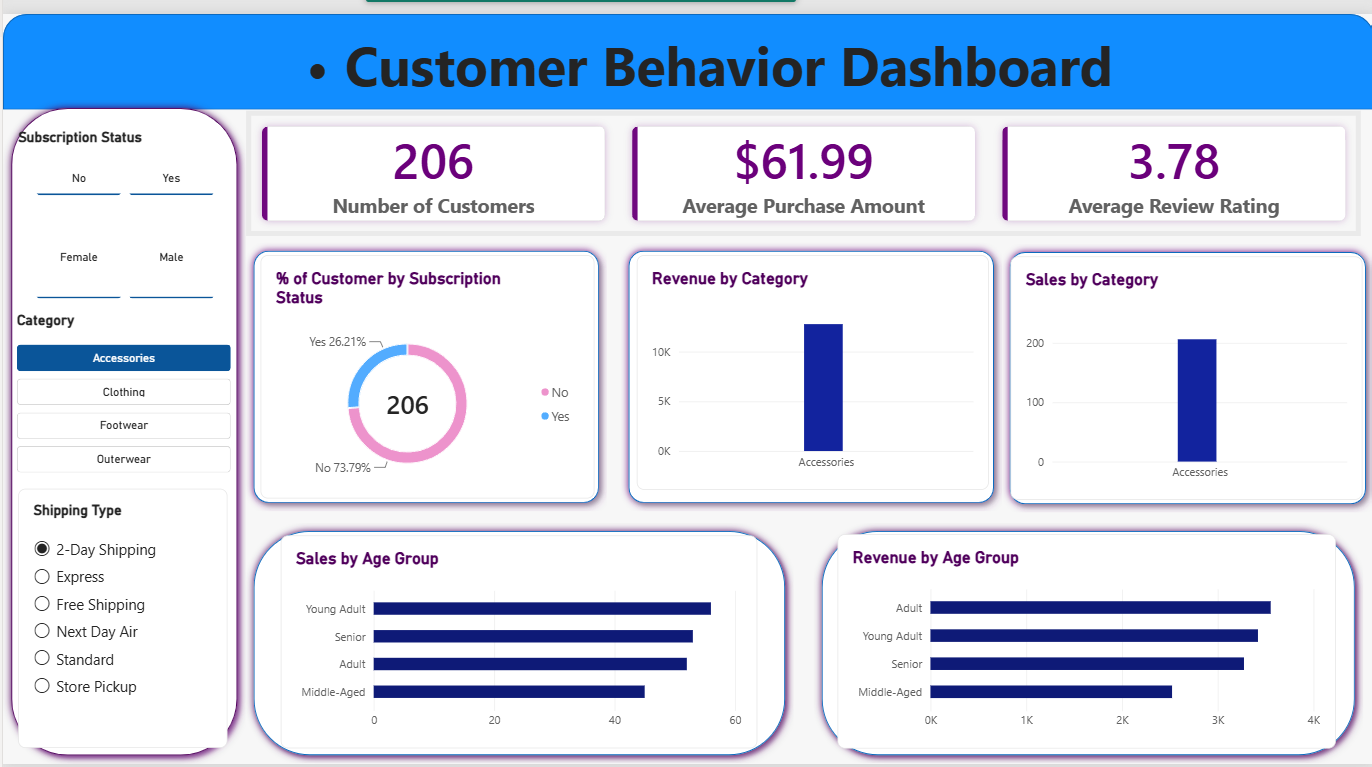

The page's visual inventory and layout, read from the dashboard file:
{"tool":"powerbi","page":{"name":"Page 1","canvas":[1500,820],"ordinal":0},"visuals":[{"type":"cardVisual","fields":{"Data":["public customer.Number of Customers","public customer.Average Purchase Amount","public customer.Average Review Rating"]},"box":[264.8,105.2,1222.2,139.2],"z":0},{"type":"shape","box":[0,0,1499.3,104.5],"z":1000},{"type":"textbox","box":[0,14.7,1499.3,89.8],"z":2000},{"type":"shape","box":[264.8,249.5,395.5,293.7],"z":3000},{"type":"shape","box":[1516.3,295.1,388.8,228],"z":4000},{"type":"shape","box":[675.6,249.5,417.6,293.7],"z":5000},{"type":"shape","box":[1091.5,251.2,407.4,293.7],"z":6000},{"type":"donutChart","title":"% of Customer by Subscription Status","fields":{"Category":["public customer.Subscription Status"],"Y":["CountNonNull(public customer.Customer ID)"]},"box":[281.8,263.1,365,266.5],"z":8000},{"type":"clusteredColumnChart","title":"Revenue by Category","fields":{"Category":["public customer.Category"],"Y":["Sum(public customer.Purchase Amount (USD))"]},"box":[692.6,263.1,385.3,256.3],"z":9000},{"type":"clusteredColumnChart","title":"Sales by Category","fields":{"Category":["public customer.Category"],"Y":["CountNonNull(public customer.Customer ID)"]},"box":[1101.7,264.8,385.3,266.5],"z":10000},{"type":"shape","box":[0,94.1,265.3,726],"z":11000},{"type":"advancedSlicerVisual","fields":{"Values":["public customer.Gender"]},"box":[17,222.4,234.3,90],"z":12000},{"type":"advancedSlicerVisual","fields":{"Values":["public customer.Subscription Status"]},"box":[17,125.6,234.3,73],"z":13000},{"type":"advancedSlicerVisual","fields":{"Values":["public customer.Category"]},"box":[15.3,325.9,234.3,178.2],"z":14000},{"type":"listSlicer","fields":{"Values":["public customer.Shipping Type"]},"box":[17,519.5,229.2,283.5],"z":15000},{"type":"shape","box":[264.8,556.8,599.2,263.1],"z":15002},{"type":"shape","box":[886.1,556.8,600.9,263.1],"z":15003},{"type":"clusteredBarChart","title":"Revenue by Age Group","fields":{"Category":["public customer.age_group"],"Y":["Sum(public customer.Purchase Amount (USD))"]},"box":[913.3,568.7,544.9,234.3],"z":15004},{"type":"clusteredBarChart","title":"Sales by Age Group","fields":{"Category":["public customer.age_group"],"Y":["CountNonNull(public customer.Customer ID)"]},"box":[303.9,570.4,521.1,232.6],"z":15005}]}

Visuals, with their boxes in screenshot pixels (x1, y1, x2, y2), scaled from the page's 1500x820 canvas onto the 1372x767 screenshot:
cardVisual - public customer.Number of Customers x public customer.Average Purchase Amount: select_region(242, 98, 1360, 229)
shape: select_region(0, 0, 1371, 98)
textbox: select_region(0, 14, 1371, 98)
shape: select_region(242, 233, 604, 508)
shape: select_region(618, 233, 1000, 508)
shape: select_region(998, 235, 1371, 510)
"% of Customer by Subscription Status" donutChart: select_region(258, 246, 592, 495)
"Revenue by Category" clusteredColumnChart: select_region(633, 246, 986, 486)
"Sales by Category" clusteredColumnChart: select_region(1008, 248, 1360, 497)
shape: select_region(0, 88, 243, 766)
advancedSlicerVisual - public customer.Gender: select_region(16, 208, 230, 292)
advancedSlicerVisual - public customer.Subscription Status: select_region(16, 117, 230, 186)
advancedSlicerVisual - public customer.Category: select_region(14, 305, 228, 472)
listSlicer - public customer.Shipping Type: select_region(16, 486, 225, 751)
shape: select_region(242, 521, 790, 766)
shape: select_region(810, 521, 1360, 766)
"Revenue by Age Group" clusteredBarChart: select_region(835, 532, 1334, 751)
"Sales by Age Group" clusteredBarChart: select_region(278, 534, 755, 751)
